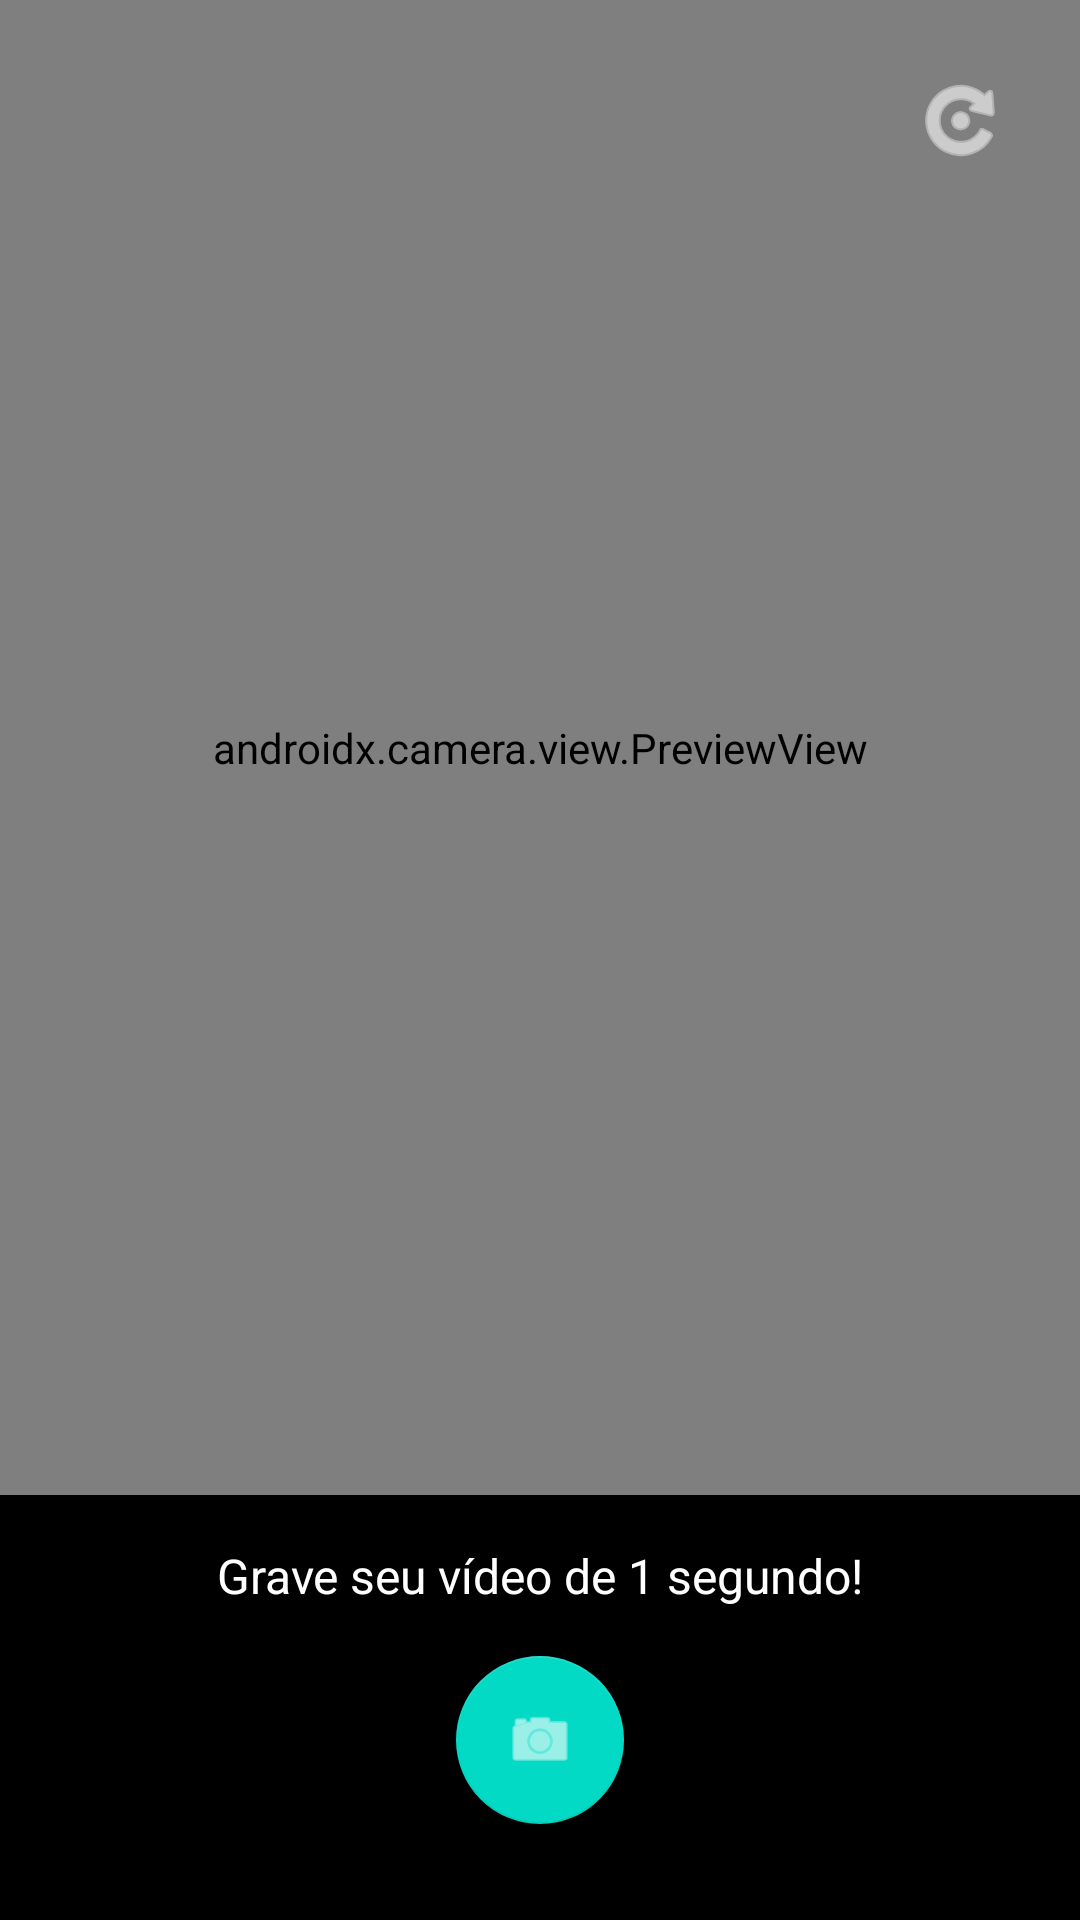

Screen size 1080w x 1920h. Icon name, then its center in pixels as point (x, y):
camera: point (540, 1740)
rotate: point (960, 120)
